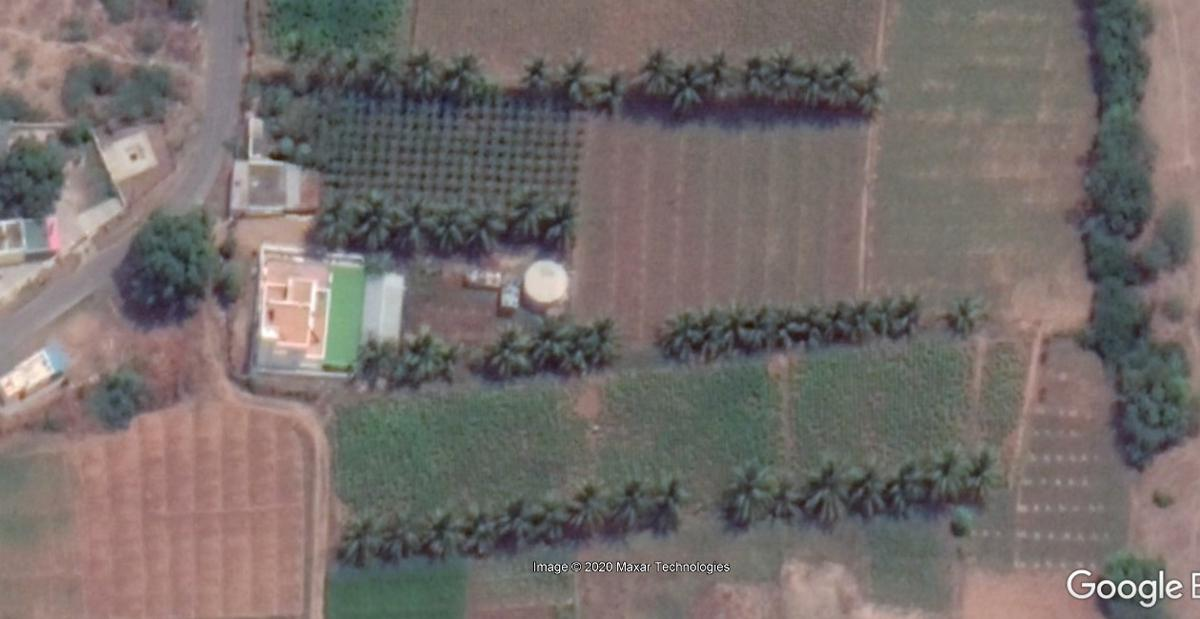coconut: (713, 459, 767, 526), (480, 321, 536, 379), (346, 184, 395, 246), (330, 507, 376, 566), (880, 457, 932, 509), (566, 477, 608, 540), (923, 440, 971, 495), (761, 42, 801, 107), (455, 497, 495, 559), (603, 478, 647, 534), (651, 475, 695, 529), (377, 508, 421, 562), (804, 456, 841, 519), (555, 42, 595, 99), (841, 463, 881, 518), (461, 193, 500, 249), (488, 491, 525, 550), (403, 40, 443, 94), (424, 200, 462, 255), (501, 182, 540, 234), (524, 491, 560, 547), (420, 506, 456, 562), (949, 284, 989, 334), (402, 325, 442, 375), (767, 467, 805, 519), (665, 58, 705, 107), (395, 189, 428, 248), (535, 318, 574, 367), (822, 48, 853, 107), (971, 445, 1003, 499), (592, 63, 628, 111), (369, 45, 402, 95), (352, 334, 392, 375), (544, 194, 577, 239), (797, 37, 820, 101), (887, 292, 920, 336), (732, 310, 772, 344), (581, 316, 612, 359), (854, 57, 879, 109), (444, 50, 477, 89), (517, 53, 549, 92), (854, 296, 880, 337), (782, 299, 813, 333), (819, 310, 848, 340)
